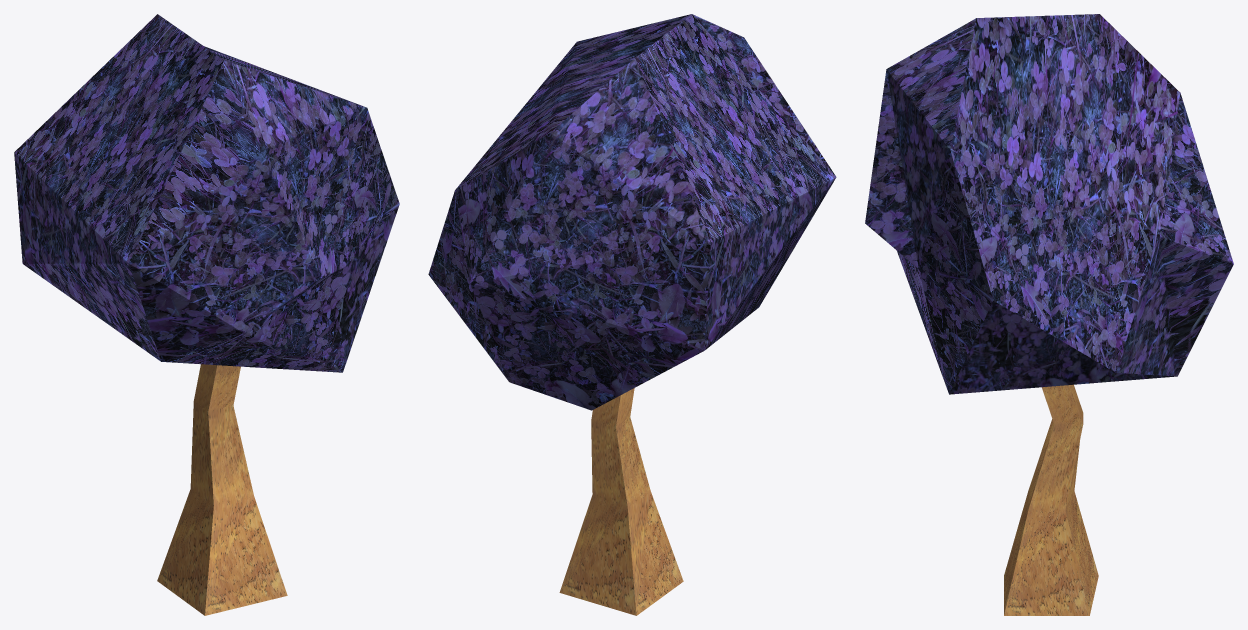
File: TreeSmall.fbx
The picture shows the model from 3 angles, left to right: view 1: azimuth 30°, elevation 25°; view 2: azimuth 150°, elevation 25°; view 3: azimuth 270°, elevation 25°; orthographic projection.
Parts seen in each view (by area): view 1: GeoSphere001, Box001; view 2: GeoSphere001, Box001; view 3: GeoSphere001, Box001.
Boxes of the visible parts, x1,y1,x2,y2 form: GeoSphere001: (14,14,399,372); Box001: (157,364,287,615); GeoSphere001: (428,14,836,410); Box001: (559,388,683,615); GeoSphere001: (865,14,1233,394); Box001: (1004,384,1098,615).
Bounding box in the file's own units: 18.96 × 32.25 × 19.18.
